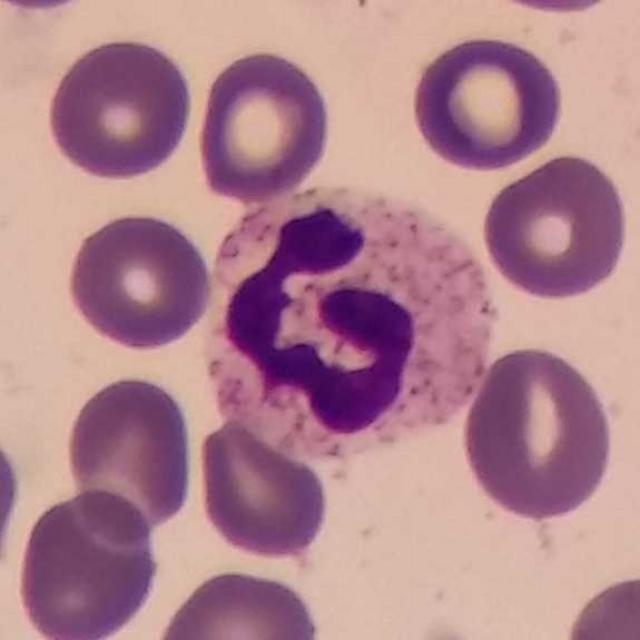Neutrophil: (192, 178, 511, 474)
RBC: (456, 340, 619, 523), (42, 32, 198, 185), (406, 29, 569, 175), (61, 369, 199, 541), (478, 149, 632, 303), (11, 485, 164, 640), (192, 44, 336, 204), (62, 207, 216, 354), (192, 414, 332, 563), (150, 564, 325, 640), (557, 567, 640, 640), (1, 422, 25, 558), (474, 0, 630, 18), (1, 0, 92, 17)
